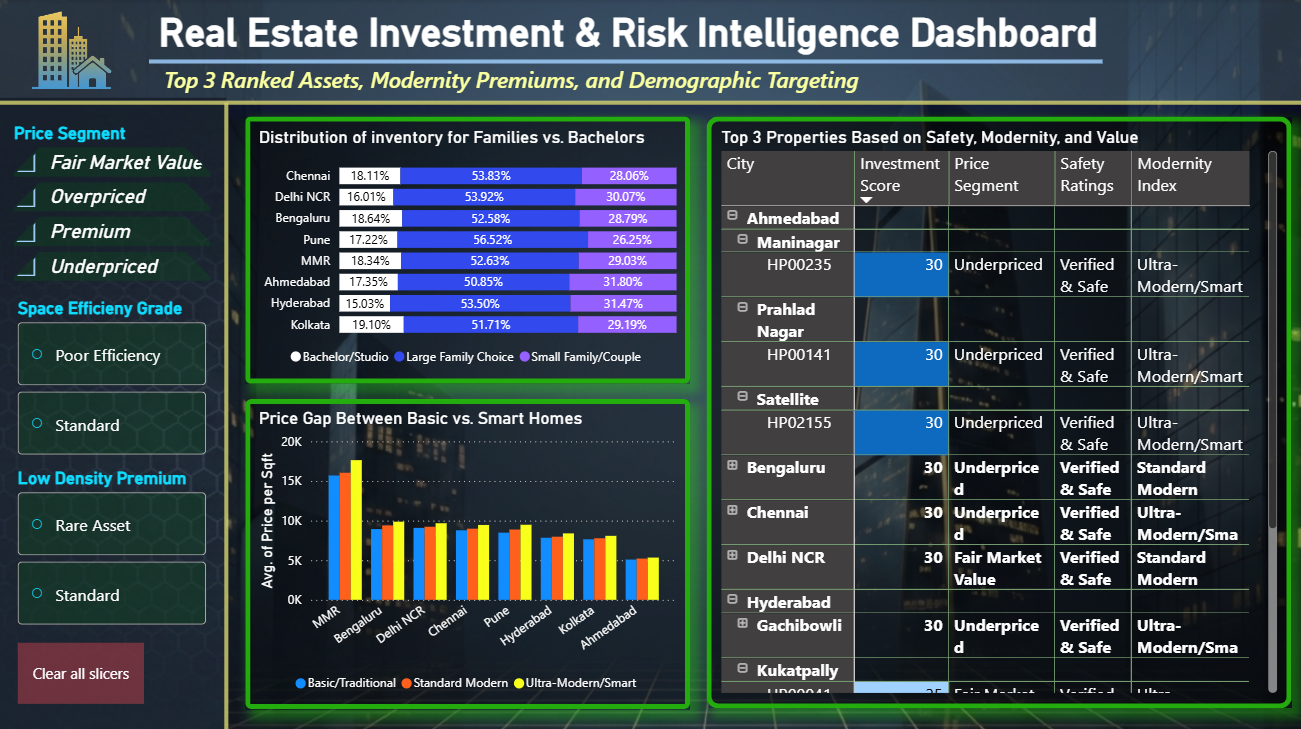

Layout of this report page (visuals, bound fields, positions):
{"tool":"powerbi","page":{"name":"Investment Strategy","canvas":[1280,720],"ordinal":2},"visuals":[{"type":"shape","box":[0,0,1279.6,101.7],"z":0},{"type":"image","box":[13.5,9.8,115.3,81],"z":1000},{"type":"textbox","box":[152.1,5,1063.8,56],"z":2000},{"type":"image","box":[0,96.9,223.3,623.3],"z":3000},{"type":"shape","box":[208.7,101.7,29.1,618.7],"z":4000},{"type":"shape","box":[0,95.7,1279.6,12.2],"z":5000},{"type":"shape","box":[694.4,115.6,574.4,581.1],"z":6000},{"type":"listSlicer","fields":{"Values":["estate processed_property_data.price_category"]},"box":[9.8,121.5,203.7,163.2],"z":7000},{"type":"actionButton","box":[18.4,631.9,123.9,60.1],"z":8000},{"type":"pivotTable","title":"Top 3 Properties Based on Safety, Modernity, and Value","fields":{"Rows":["estate processed_property_data.city","estate processed_property_data.locality","estate processed_property_data.listingid"],"Values":["Max(estate processed_property_data.investment_score)","Min(estate processed_property_data.price_category)","Min(estate processed_property_data.safety_ratings)","Min(estate processed_property_data.modernity_index)"]},"box":[704.4,125.6,555.6,561.1],"z":9000},{"type":"shape","box":[242.2,392.2,436.7,304.4],"z":10000},{"type":"shape","box":[242.2,115.6,436.7,262.2],"z":11000},{"type":"hundredPercentStackedBarChart","title":"Distribution of inventory for Families vs. Bachelors","fields":{"Category":["estate processed_property_data.city"],"Y":["CountNonNull(estate processed_property_data.listingid)"],"Series":["estate processed_property_data.family_segment"]},"box":[250,125.6,420,244.4],"z":12000},{"type":"advancedSlicerVisual","fields":{"Values":["estate processed_property_data.space_efficieny_grade"]},"box":[13.5,293.3,195.1,159.5],"z":13000},{"type":"textbox","box":[157.5,59,743.8,40],"z":14000},{"type":"shape","box":[147.2,55.2,936.2,12.3],"z":15000},{"type":"clusteredColumnChart","title":"Price Gap Between Basic vs. Smart Homes","fields":{"Category":["estate processed_property_data.city"],"Y":["Avg(estate processed_property_data.price_per_sqft)"],"Series":["estate processed_property_data.modernity_index"]},"box":[250,401.2,420,288.8],"z":19000},{"type":"advancedSlicerVisual","fields":{"Values":["estate processed_property_data.low_density_premium"]},"box":[13.8,460,195,160],"z":20000}]}

Visuals, with their boxes in screenshot pixels (x1, y1, x2, y2), scaled from the page's 1280x720 canvas onto the 1301x729 screenshot:
shape: pyautogui.locateOnScreen(0, 0, 1300, 103)
image: pyautogui.locateOnScreen(14, 10, 131, 92)
textbox: pyautogui.locateOnScreen(155, 5, 1236, 62)
image: pyautogui.locateOnScreen(0, 98, 227, 728)
shape: pyautogui.locateOnScreen(212, 103, 242, 728)
shape: pyautogui.locateOnScreen(0, 97, 1300, 109)
shape: pyautogui.locateOnScreen(706, 117, 1290, 705)
listSlicer - estate processed_property_data.price_category: pyautogui.locateOnScreen(10, 123, 217, 288)
actionButton: pyautogui.locateOnScreen(19, 640, 145, 701)
"Top 3 Properties Based on Safety, Modernity, and Value" pivotTable: pyautogui.locateOnScreen(716, 127, 1281, 695)
shape: pyautogui.locateOnScreen(246, 397, 690, 705)
shape: pyautogui.locateOnScreen(246, 117, 690, 383)
"Distribution of inventory for Families vs. Bachelors" hundredPercentStackedBarChart: pyautogui.locateOnScreen(254, 127, 681, 375)
advancedSlicerVisual - estate processed_property_data.space_efficieny_grade: pyautogui.locateOnScreen(14, 297, 212, 458)
textbox: pyautogui.locateOnScreen(160, 60, 916, 100)
shape: pyautogui.locateOnScreen(150, 56, 1101, 68)
"Price Gap Between Basic vs. Smart Homes" clusteredColumnChart: pyautogui.locateOnScreen(254, 406, 681, 699)
advancedSlicerVisual - estate processed_property_data.low_density_premium: pyautogui.locateOnScreen(14, 466, 212, 628)
